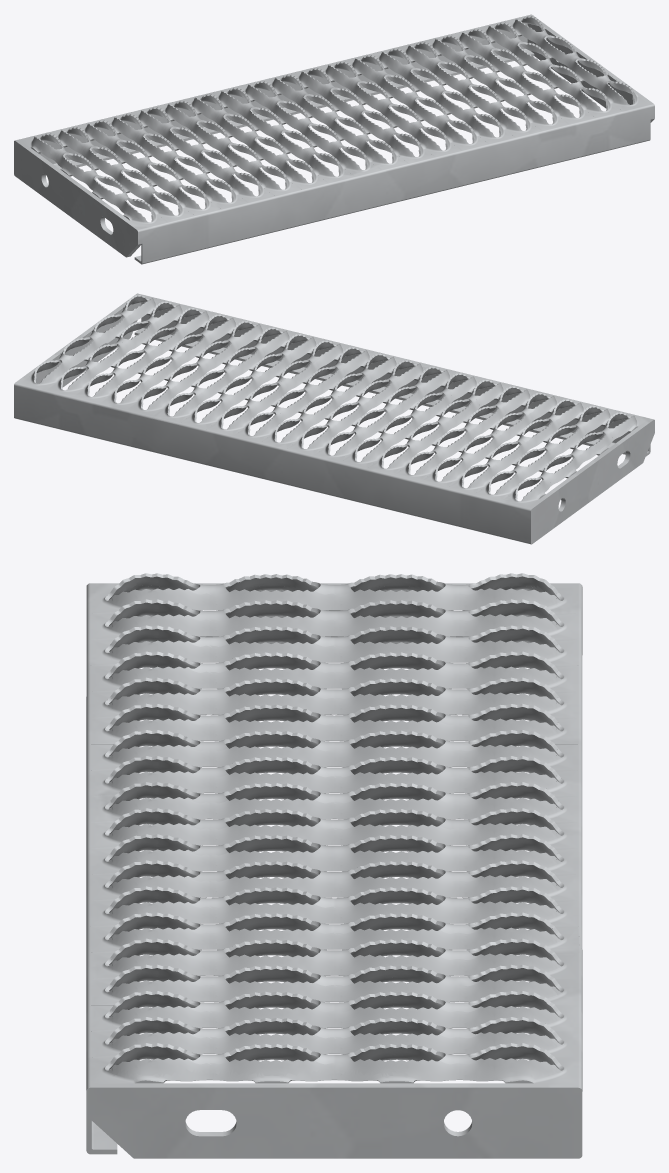
Rendered from grip-strut.glb.
3 renders of one model, top to bottom at view 1: azimuth 30°, elevation 25°; view 2: azimuth 150°, elevation 25°; view 3: azimuth 270°, elevation 25°, orthographic. The views are drawn at different scales.
Parts seen in each view (by area): view 1: WalkingFace, SideChannel, SerratedTeeth; view 2: WalkingFace, SideChannel, SerratedTeeth; view 3: WalkingFace, SideChannel, SerratedTeeth.
Part boxes in pixels (bbox=[...]): WalkingFace: bbox=[32, 42, 636, 222]; SideChannel: bbox=[14, 20, 654, 264]; SerratedTeeth: bbox=[368, 14, 644, 101]; WalkingFace: bbox=[70, 295, 636, 501]; SideChannel: bbox=[14, 293, 654, 544]; SerratedTeeth: bbox=[14, 307, 205, 423]; WalkingFace: bbox=[91, 573, 577, 1080]; SideChannel: bbox=[86, 583, 582, 1158]; SerratedTeeth: bbox=[99, 920, 582, 1118].
Size of the model in its own units: 0.9379 by 0.0786 by 0.3898.
Materials: 1 (1 with a texture image).
